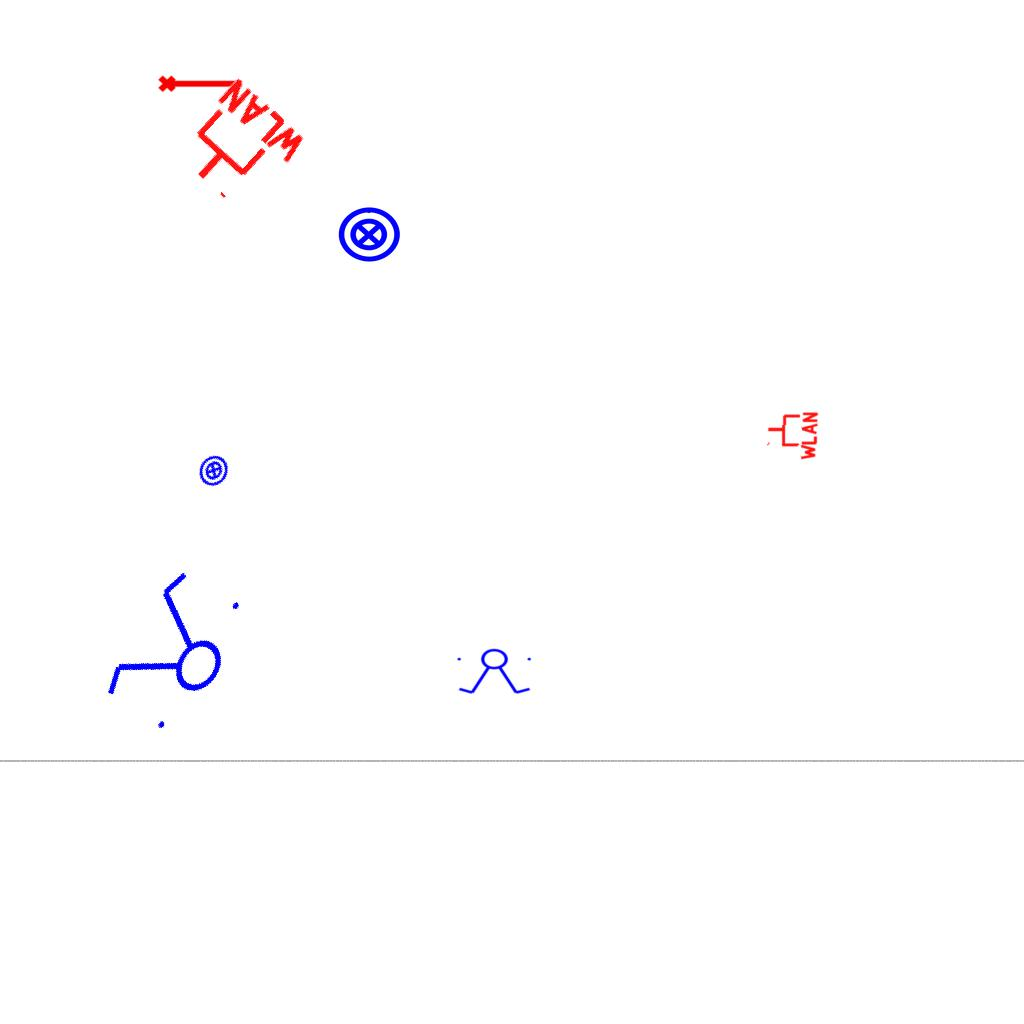ASR_Ansaugoeffnung: (157, 71, 245, 94)
Serienschalter: (90, 556, 262, 750), (453, 648, 537, 696)
Taster_beleuchtet: (336, 202, 402, 268), (191, 448, 236, 493)
WLAN: (165, 73, 314, 221), (764, 407, 820, 463)
